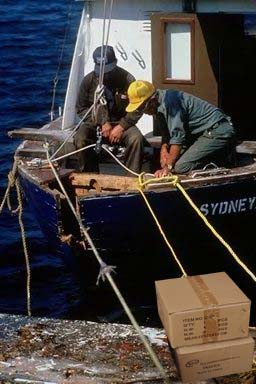copymove: (116, 40, 128, 60)
removal: (112, 39, 128, 64)
spliced: (152, 269, 256, 384)
